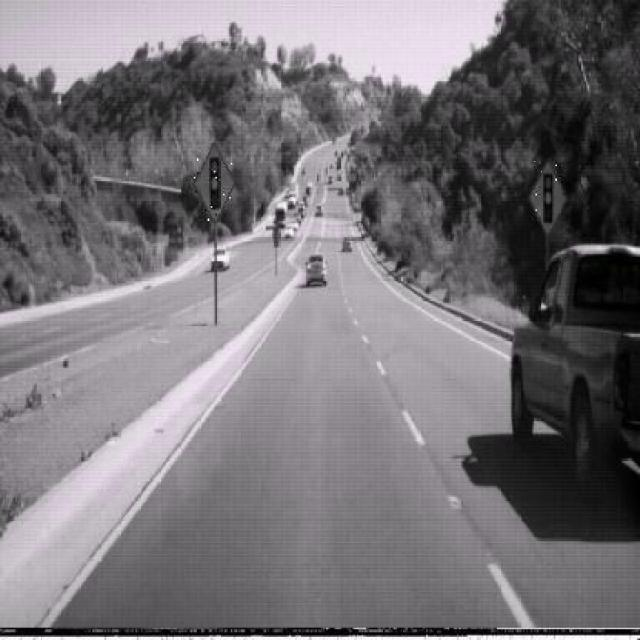signalAhead: (194, 138, 236, 224), (529, 157, 567, 238)
